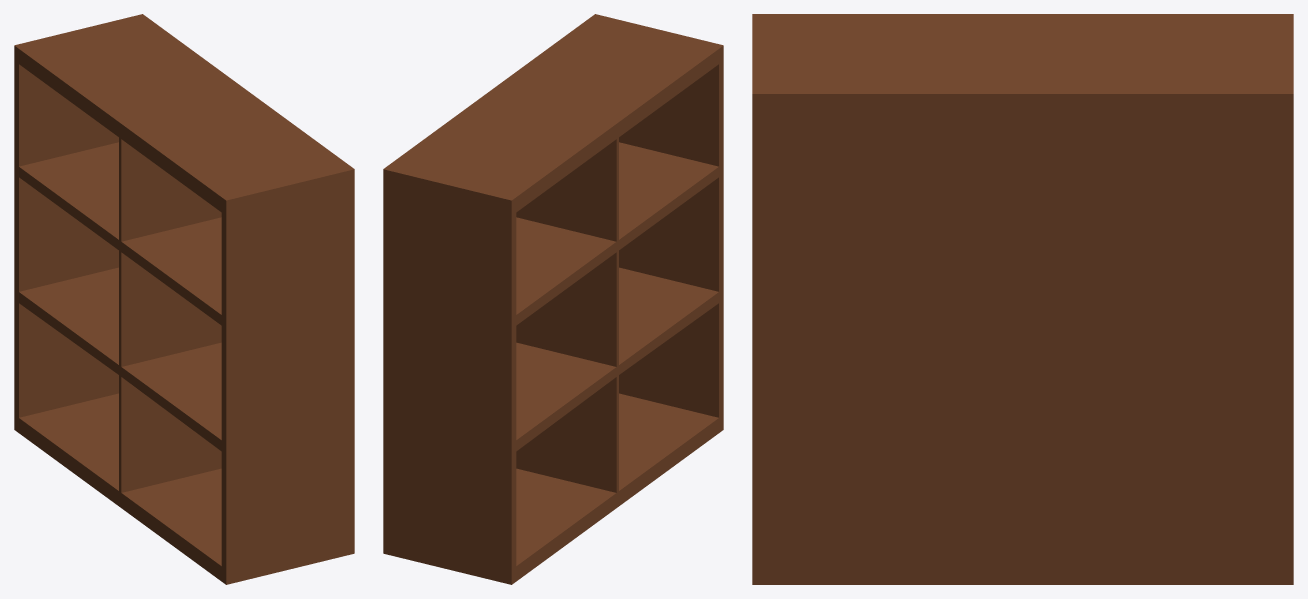
File: regal1.fbx
3 renders of one model, left to right at view 1: azimuth 30°, elevation 25°; view 2: azimuth 150°, elevation 25°; view 3: azimuth 270°, elevation 25°, orthographic. The views are drawn at different scales.
Parts seen in each view (by area): view 1: Cube.001; view 2: Cube.001; view 3: Cube.001.
Boxes of the visible parts, x1,y1,x2,y2 form: Cube.001: (14, 14, 354, 584); Cube.001: (383, 14, 723, 584); Cube.001: (752, 14, 1293, 584).
Size of the model in its own units: 35 by 100 by 100.
